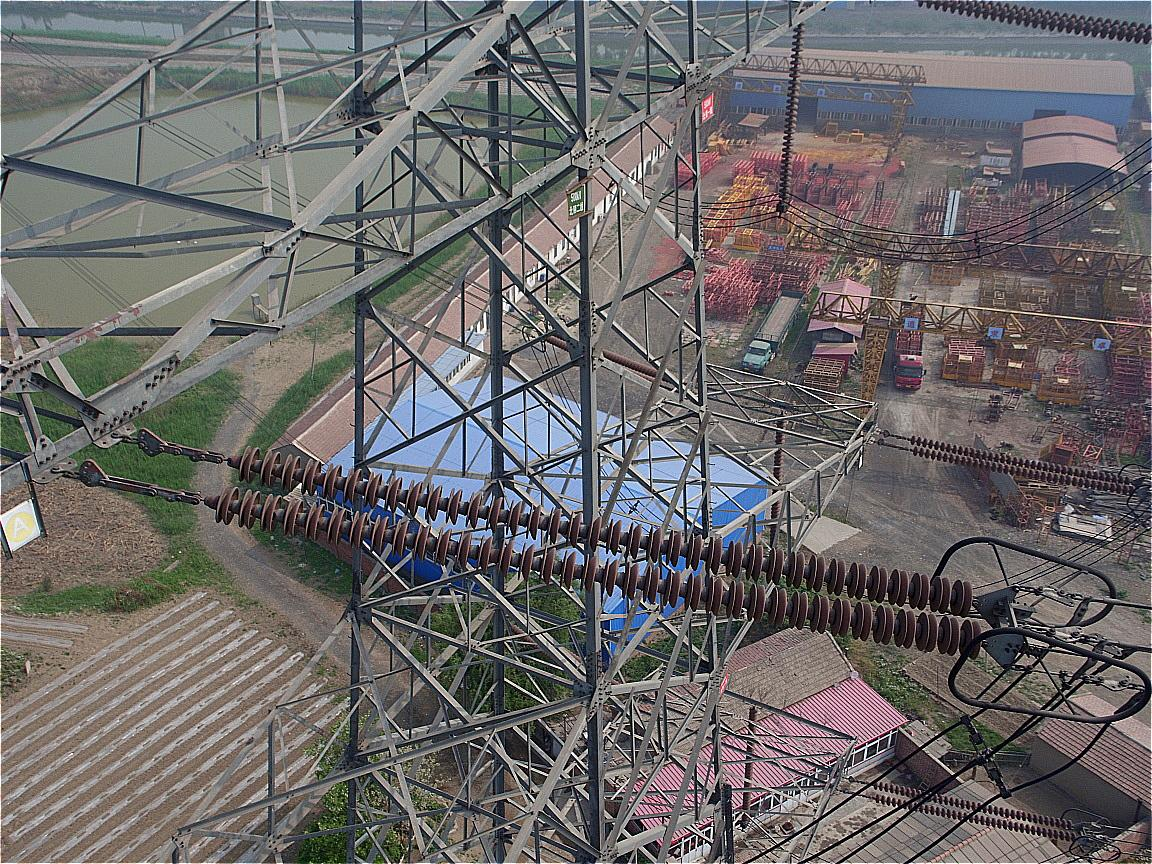insultor1: (911, 434, 1136, 495), (873, 782, 1078, 844), (921, 3, 1148, 56)
insultor2: (217, 445, 985, 658)
